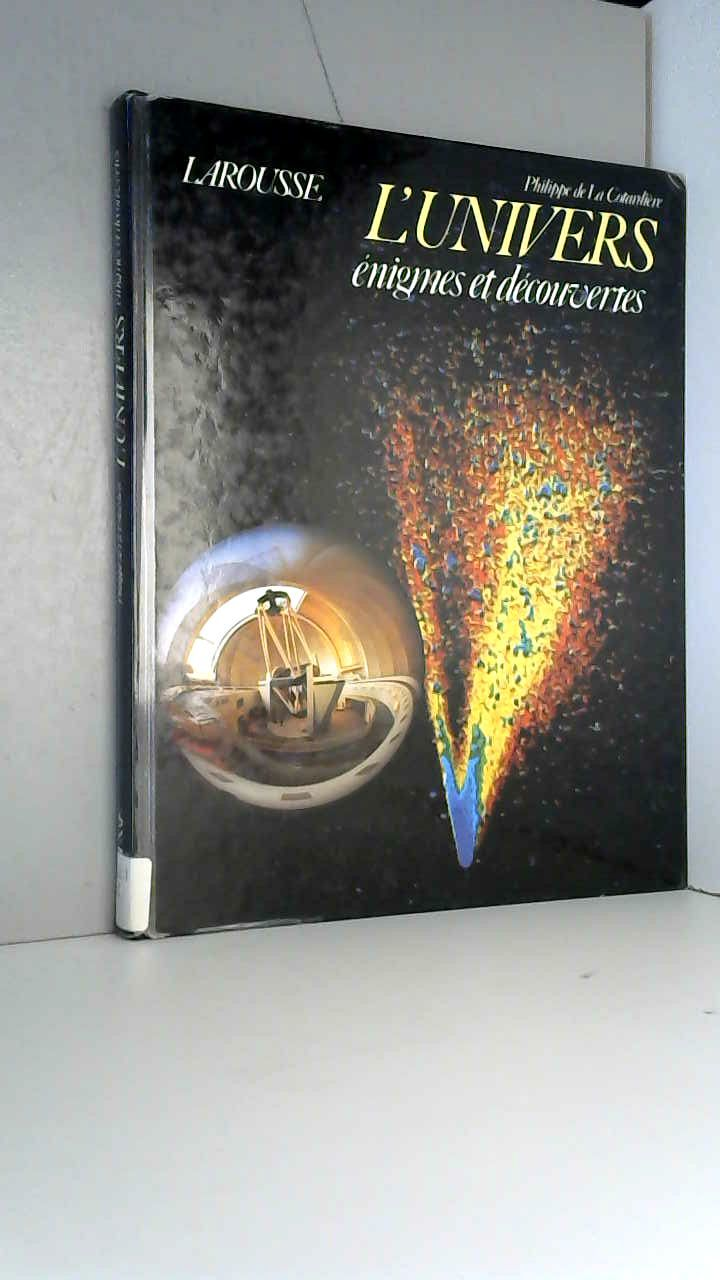book: (80, 60, 720, 938)
